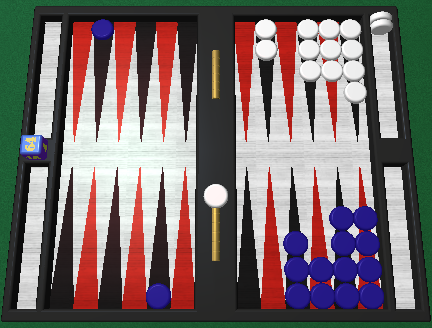bar: (196, 7, 234, 321)
checker_blue: (358, 283, 384, 308), (356, 256, 382, 281), (332, 230, 356, 255), (353, 206, 377, 230), (355, 231, 379, 255), (309, 257, 333, 281), (285, 284, 309, 308), (284, 257, 308, 281), (146, 283, 170, 307), (333, 258, 357, 282), (329, 206, 353, 230), (285, 232, 309, 256), (310, 284, 334, 308), (335, 284, 359, 308), (92, 19, 114, 40)
checker_white: (203, 183, 228, 207), (338, 16, 362, 39), (344, 82, 367, 104), (340, 40, 364, 61), (320, 39, 342, 60), (297, 19, 319, 40), (299, 60, 321, 81), (255, 40, 277, 61), (254, 19, 276, 40), (342, 60, 364, 81), (322, 60, 344, 81), (298, 40, 320, 61), (320, 18, 341, 39), (369, 18, 392, 33), (370, 11, 393, 22)
endbox: (7, 160, 50, 311), (381, 161, 419, 309), (364, 12, 403, 140), (27, 12, 65, 139)
point: (74, 166, 99, 307), (334, 167, 357, 309), (308, 166, 331, 308), (285, 166, 308, 308), (261, 167, 284, 309), (237, 167, 260, 309), (173, 165, 196, 307), (147, 166, 170, 308), (123, 166, 146, 308), (99, 167, 122, 309), (52, 167, 74, 308), (357, 165, 378, 307), (71, 22, 93, 142), (113, 21, 135, 141), (155, 21, 177, 141), (134, 20, 156, 140), (93, 22, 113, 141), (178, 21, 198, 140), (234, 21, 254, 140), (255, 21, 275, 140), (276, 21, 296, 140), (297, 20, 317, 139), (318, 20, 338, 139), (340, 21, 360, 140)
